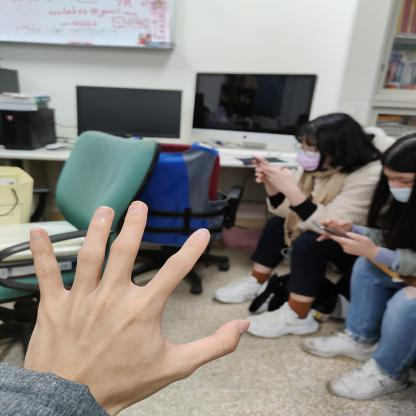bare_hand: (13, 192, 256, 416)
